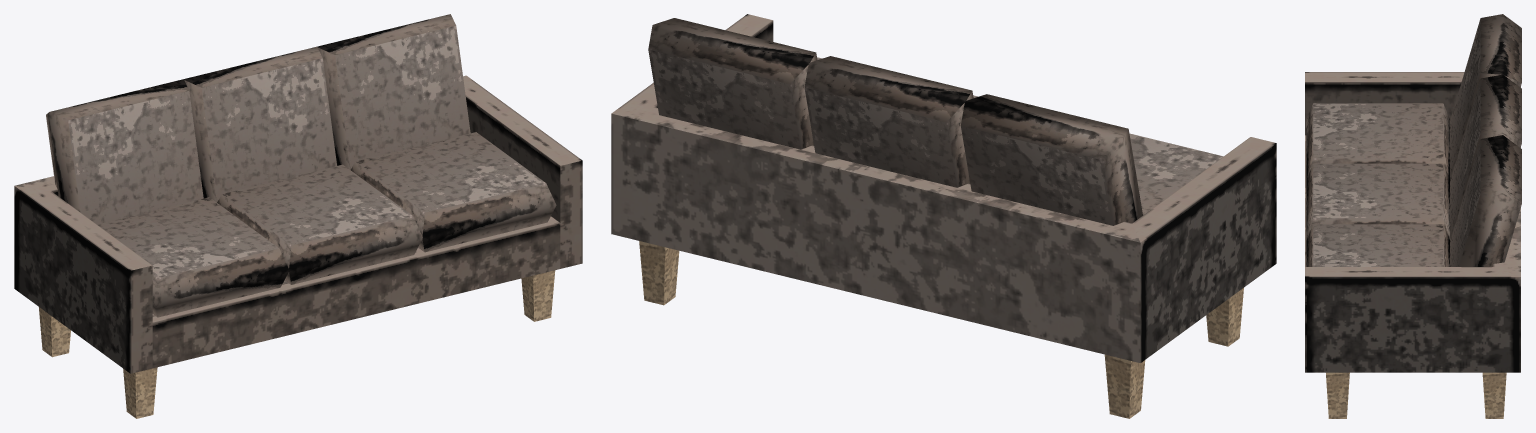
Rendered from Couch.fbx.
3 views of the same model, side by side, from view 1: azimuth 30°, elevation 25°; view 2: azimuth 150°, elevation 25°; view 3: azimuth 270°, elevation 25° (orthographic). The views are drawn at different scales.
Parts seen in each view (by area): view 1: polySurface470; view 2: polySurface470; view 3: polySurface470.
Boxes of the visible parts, left/top/right/bottom form: polySurface470: left=14, top=14, right=582, bottom=418; polySurface470: left=611, top=14, right=1276, bottom=418; polySurface470: left=1305, top=14, right=1521, bottom=418.
Bounding box in the file's own units: 268 × 134 × 120.
